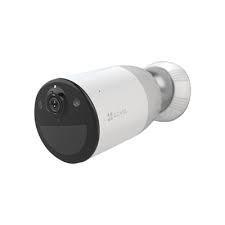tutu: (33, 66, 171, 164)
